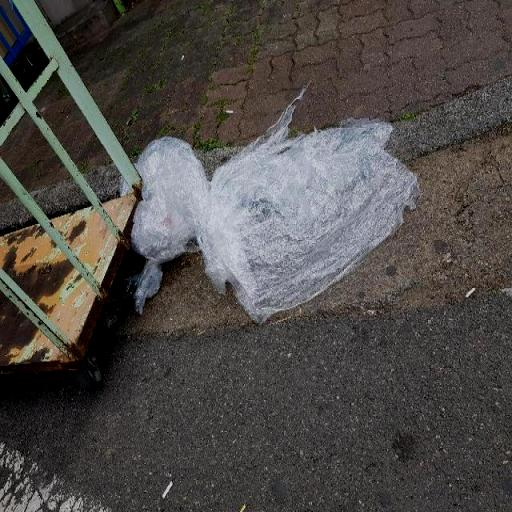polythene: (133, 89, 418, 320)
